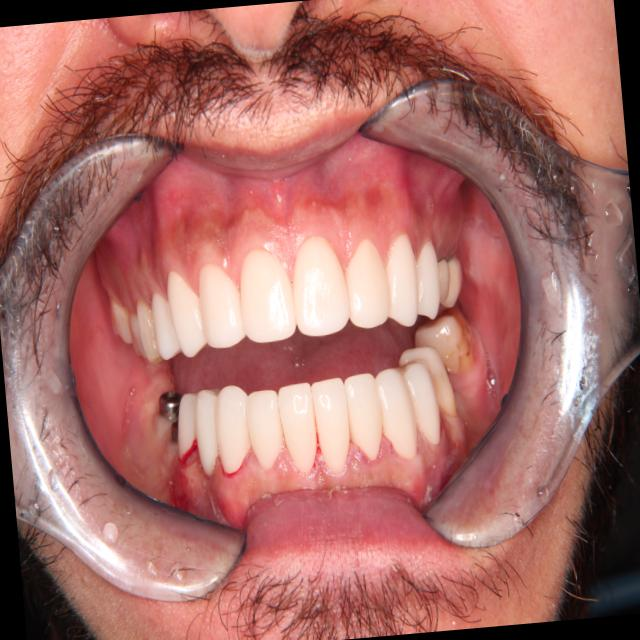tooth: (230, 231, 306, 360), (281, 213, 354, 342), (336, 229, 399, 341), (187, 245, 249, 357), (365, 350, 424, 467), (394, 337, 463, 432), (375, 213, 424, 333), (307, 366, 356, 480), (159, 258, 212, 363), (409, 307, 485, 380), (338, 363, 390, 469), (273, 372, 324, 478), (392, 354, 447, 452), (211, 375, 257, 483), (241, 380, 289, 481), (409, 221, 447, 325), (192, 382, 227, 487), (144, 280, 184, 367), (129, 285, 165, 374), (171, 390, 203, 467), (122, 298, 150, 367), (430, 250, 455, 314), (108, 294, 134, 354), (442, 246, 466, 311), (108, 308, 119, 338)
